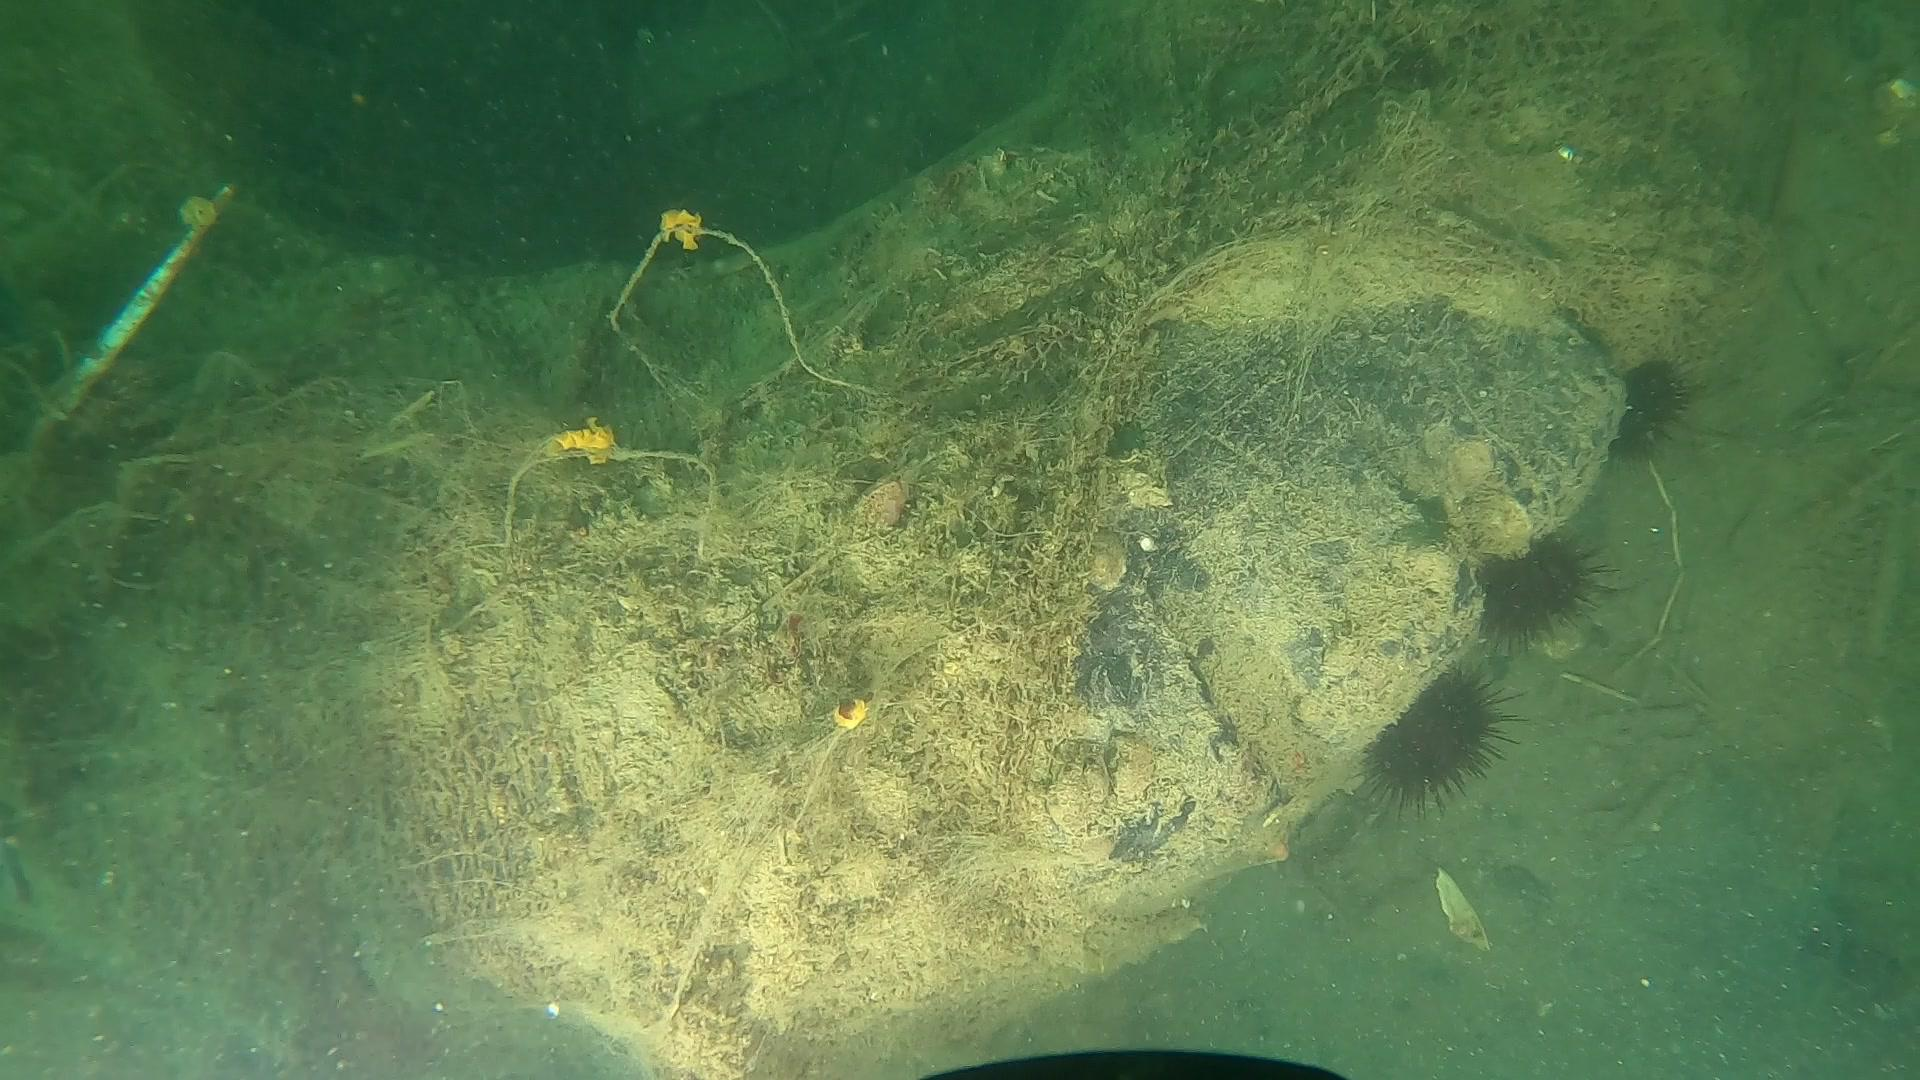tire: (0, 3, 1733, 1058)
